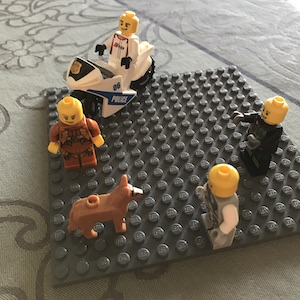Lego: (232, 95, 290, 177), (192, 162, 244, 253), (45, 98, 105, 168), (96, 10, 141, 92)
